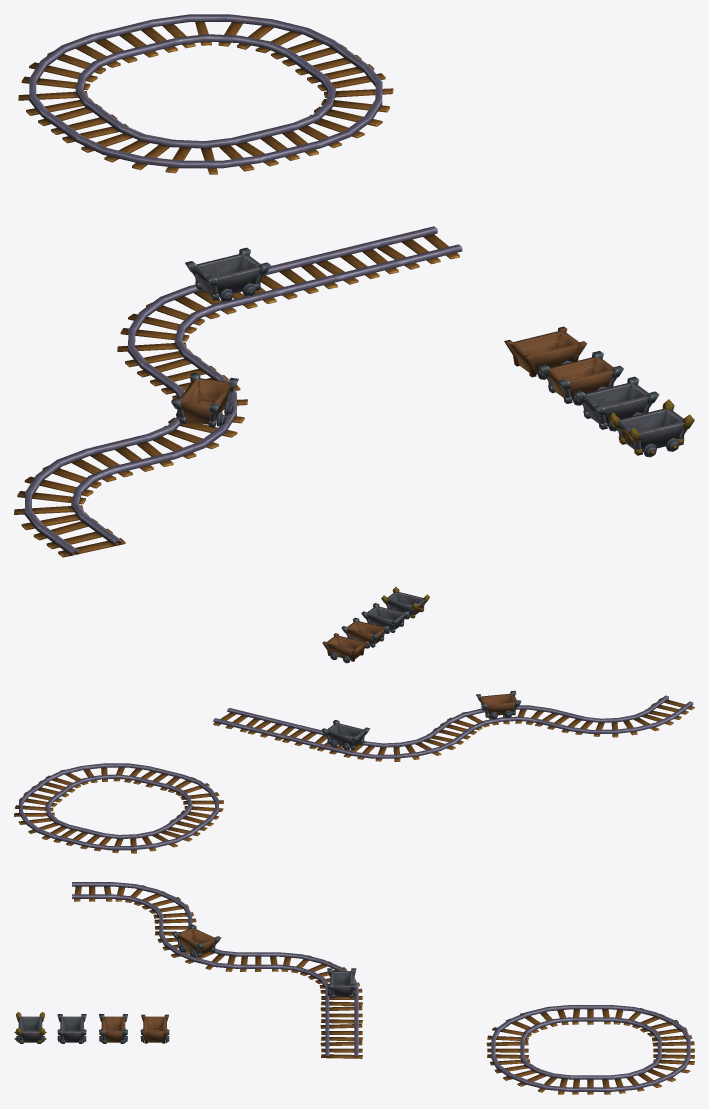
Rendered from minecarts_gameready.glb.
The picture shows the model from 3 angles, top to bottom: view 1: azimuth 30°, elevation 25°; view 2: azimuth 150°, elevation 25°; view 3: azimuth 270°, elevation 25°; orthographic projection. The views are drawn at different scales.
Parts seen in each view (by area): view 1: rails.005, rails.001, rails.002, rails.013, rails.006, rails.017, Minecart_lvl4, Minecart_lvl3, Minecart_lvl2, Minecart_lvl2.001, Minecart_lvl3.001, Minecart_lvl1 (+12 smaller); view 2: rails.013, rails.002, rails.017, rails.006, rails.005, rails.001, rails.014, Minecart_lvl3, Minecart_lvl2, Minecart_lvl1, Minecart_lvl4, Minecart_lvl2.001 (+11 smaller); view 3: rails.006, rails.001, rails.005, rails.002, rails.017, rails.013, rails.014, Minecart_lvl2, Minecart_lvl4, Minecart_lvl3.001, Minecart_lvl2.001, Minecart_lvl3 (+12 smaller).
Boxes of the visible parts, left/top/right/bottom form: rails.005: left=77, top=126, right=259, bottom=174; rails.001: left=152, top=14, right=334, bottom=59; rails.002: left=18, top=34, right=120, bottom=115; rails.013: left=117, top=286, right=219, bottom=367; rails.006: left=293, top=66, right=393, bottom=148; rails.017: left=14, top=449, right=116, bottom=530; Minecart_lvl4: left=608, top=399, right=694, bottom=457; Minecart_lvl3: left=185, top=247, right=271, bottom=301; Minecart_lvl2: left=171, top=372, right=238, bottom=427; Minecart_lvl2.001: left=538, top=351, right=623, bottom=405; Minecart_lvl3.001: left=573, top=376, right=659, bottom=431; Minecart_lvl1: left=504, top=326, right=587, bottom=379; rails.013: left=351, top=734, right=455, bottom=761; rails.002: left=88, top=826, right=192, bottom=853; rails.017: left=569, top=710, right=673, bottom=737; rails.006: left=45, top=763, right=148, bottom=788; rails.005: left=168, top=774, right=223, bottom=820; rails.001: left=14, top=792, right=69, bottom=839; rails.014: left=447, top=705, right=550, bottom=730; Minecart_lvl3: left=321, top=720, right=370, bottom=750; Minecart_lvl2: left=476, top=690, right=521, bottom=719; Minecart_lvl1: left=322, top=633, right=368, bottom=663; Minecart_lvl4: left=381, top=586, right=429, bottom=619; Minecart_lvl2.001: left=341, top=617, right=389, bottom=648; rails.006: left=490, top=1056, right=570, bottom=1094; rails.001: left=612, top=1056, right=694, bottom=1093; rails.005: left=487, top=1005, right=570, bottom=1041; rails.002: left=612, top=1005, right=692, bottom=1041; rails.017: left=113, top=882, right=193, bottom=918; rails.013: left=279, top=952, right=359, bottom=988; rails.014: left=157, top=933, right=237, bottom=971; Minecart_lvl2: left=172, top=924, right=221, bottom=957; Minecart_lvl4: left=14, top=1011, right=46, bottom=1043; Minecart_lvl3.001: left=57, top=1014, right=86, bottom=1043; Minecart_lvl2.001: left=99, top=1014, right=127, bottom=1043; Minecart_lvl3: left=327, top=968, right=356, bottom=998.
Size of the model in its own units: 12.02 by 0.5993 by 16.4.
2 materials, 2 textured.
